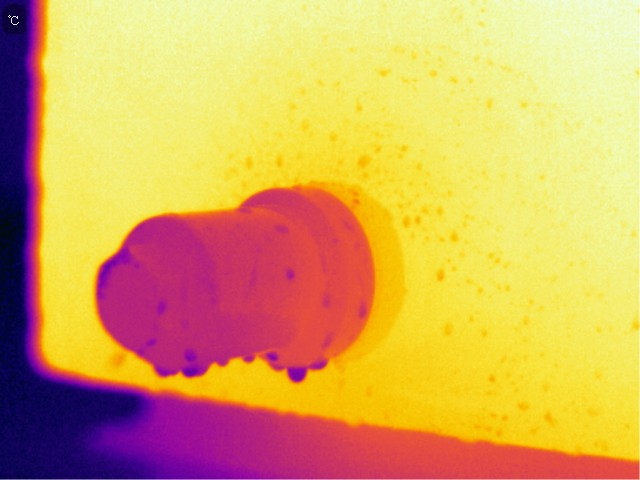Water: (337, 215, 364, 261), (182, 360, 212, 388), (536, 403, 562, 435), (277, 260, 310, 284), (441, 317, 463, 346), (344, 96, 372, 118), (347, 184, 375, 206), (314, 329, 341, 351), (150, 364, 178, 385), (374, 60, 396, 86), (288, 361, 309, 388), (177, 343, 203, 364), (479, 371, 502, 394), (137, 333, 164, 352), (424, 63, 440, 93), (309, 355, 334, 374), (394, 138, 412, 164), (271, 215, 293, 236), (269, 151, 293, 170), (241, 346, 257, 373), (215, 350, 231, 375), (432, 261, 447, 287), (354, 151, 374, 170), (318, 290, 334, 312), (397, 211, 412, 233), (266, 345, 283, 363), (408, 208, 424, 227), (356, 301, 371, 321), (515, 398, 532, 414), (152, 301, 170, 316), (241, 154, 256, 170), (432, 206, 449, 219), (447, 75, 464, 86), (271, 364, 284, 378), (518, 98, 531, 112), (484, 95, 495, 111), (446, 230, 458, 244), (539, 169, 546, 185)
